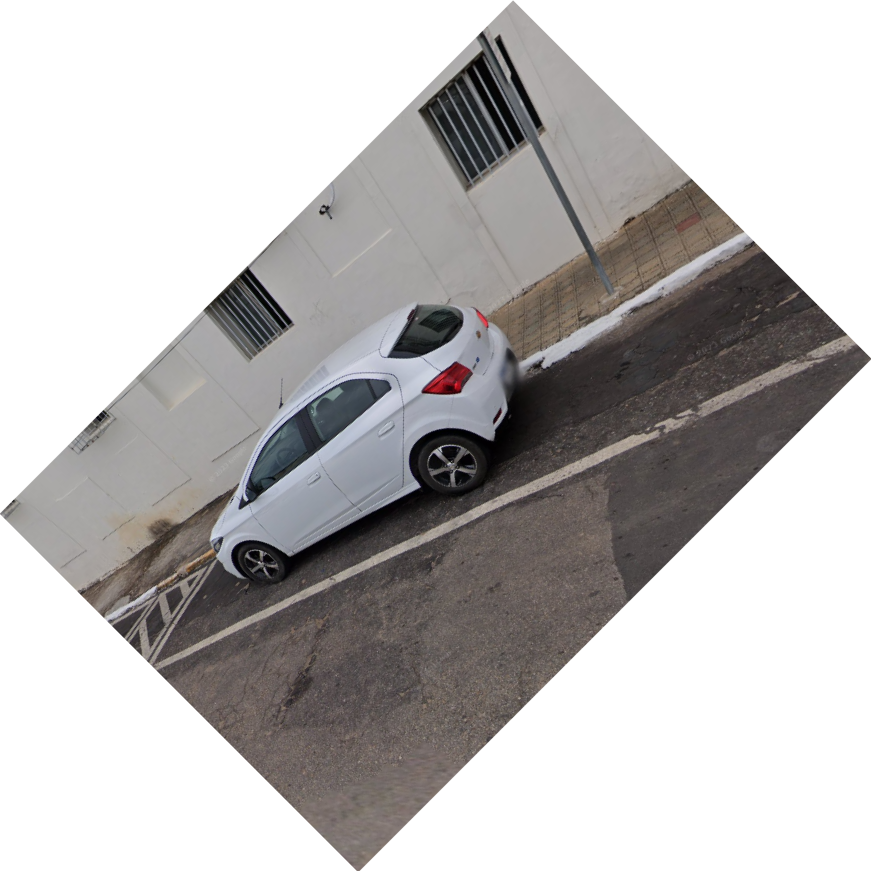car: (206, 292, 525, 599)
